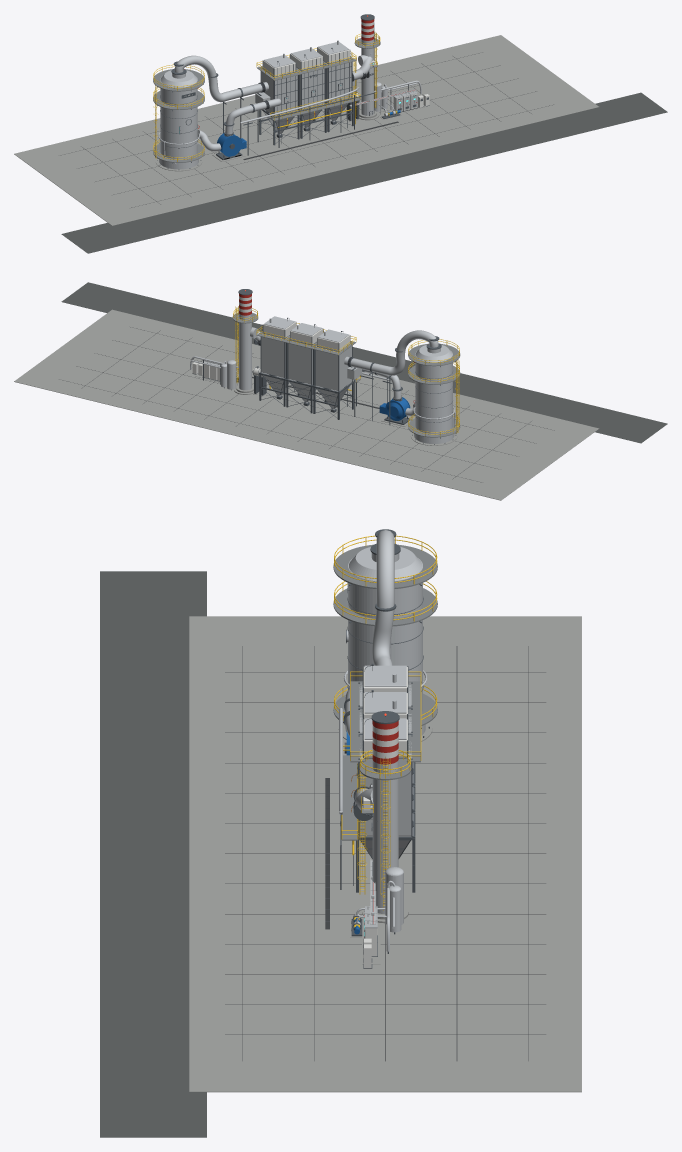
File: WMPSES_RTO_Plant_web.glb
The picture shows the model from 3 angles, top to bottom: view 1: azimuth 30°, elevation 25°; view 2: azimuth 150°, elevation 25°; view 3: azimuth 270°, elevation 25°; orthographic projection. The views are drawn at different scales.
Visible parts, largest first — view 1: WMPSES_RTO_Plant_Web; view 2: WMPSES_RTO_Plant_Web; view 3: WMPSES_RTO_Plant_Web.
Boxes of the visible parts, left/top/right/bottom form: WMPSES_RTO_Plant_Web: left=14, top=14, right=667, bottom=253; WMPSES_RTO_Plant_Web: left=14, top=282, right=667, bottom=500; WMPSES_RTO_Plant_Web: left=100, top=529, right=581, bottom=1137.
Bounding box in the file's own units: 150 × 25.43 × 54.
Materials: 21 (1 with a texture image).
